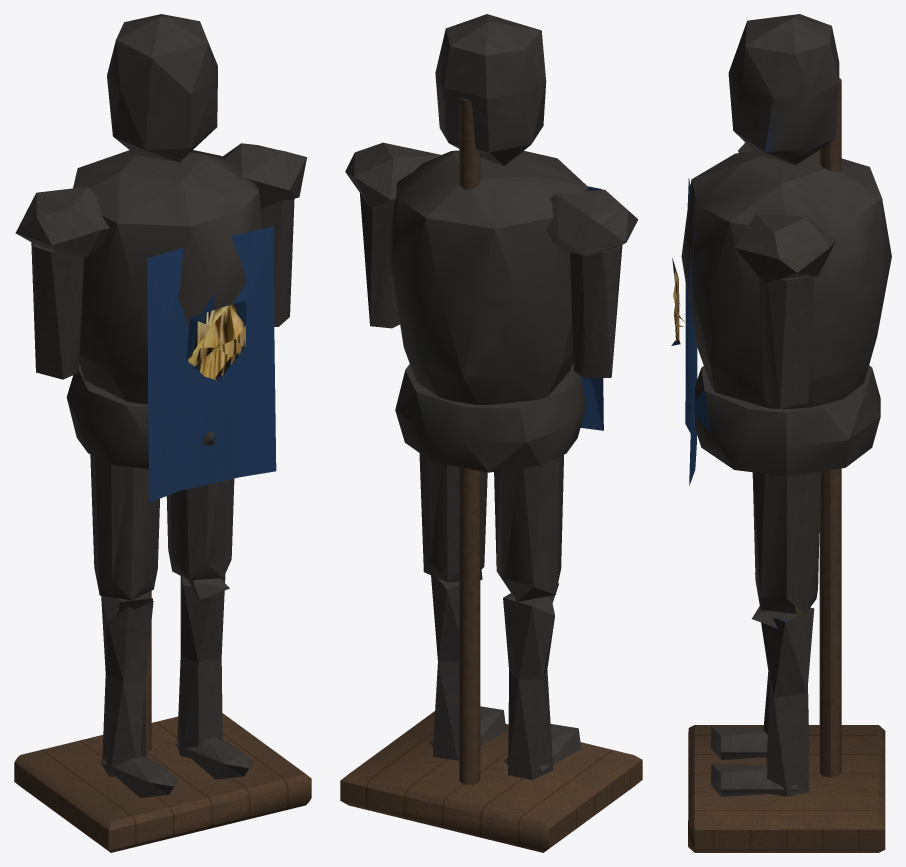
The model's file is armor_stand_lod2.glb.
The picture shows the model from 3 angles, left to right: view 1: azimuth 30°, elevation 25°; view 2: azimuth 150°, elevation 25°; view 3: azimuth 270°, elevation 25°; orthographic projection.
Visible parts, largest first — view 1: armor_stand; view 2: armor_stand; view 3: armor_stand.
Part boxes in pixels (x1,y1,x2,y2): armor_stand: [14, 14, 311, 852]; armor_stand: [340, 14, 642, 852]; armor_stand: [671, 14, 891, 852].
Bounding box in the file's own units: 0.7536 × 1.98 × 0.504.
Materials: 1 (1 with a texture image).
